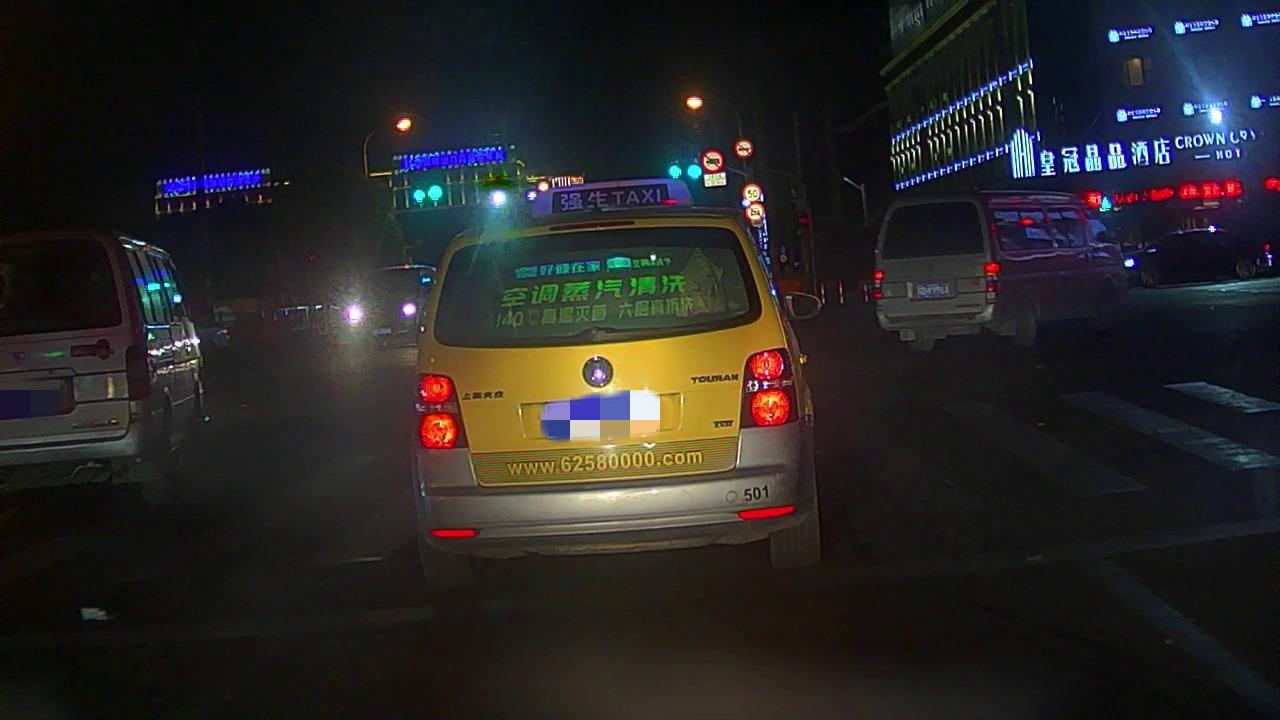traffic_light: (684, 160, 707, 183), (424, 181, 445, 203), (408, 185, 427, 206), (665, 163, 684, 180)
